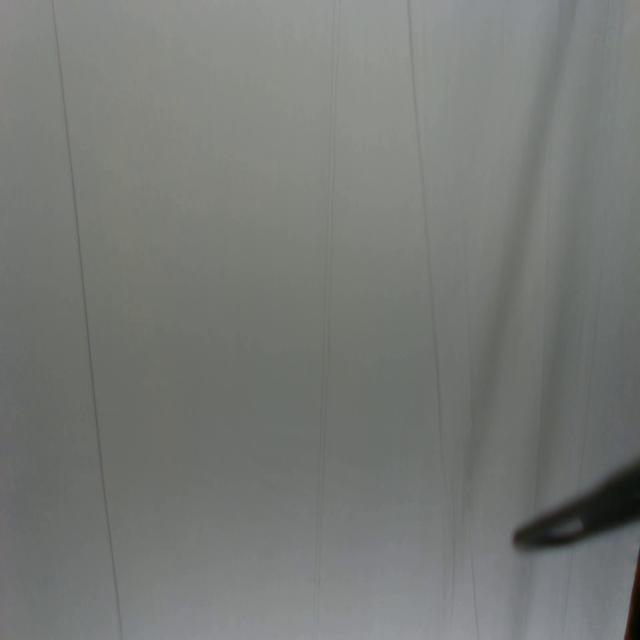crease: (50, 0, 123, 636), (312, 0, 342, 639), (405, 0, 446, 463), (463, 302, 478, 446), (470, 542, 480, 637)
